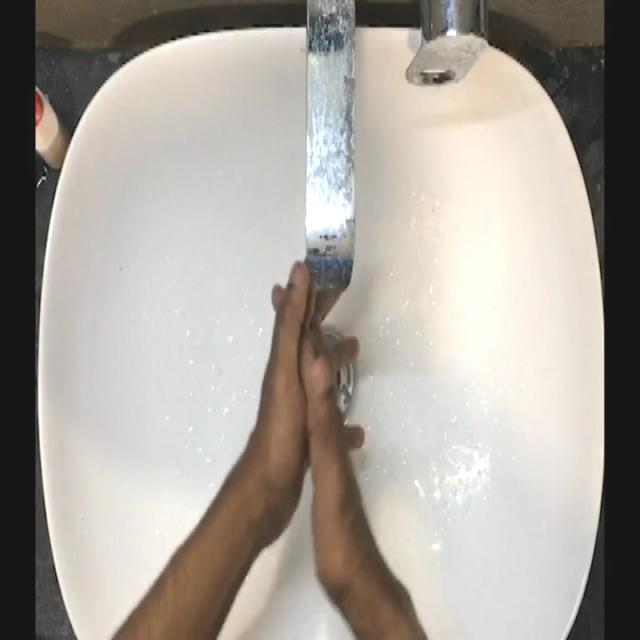step_3: (243, 212, 384, 533)
